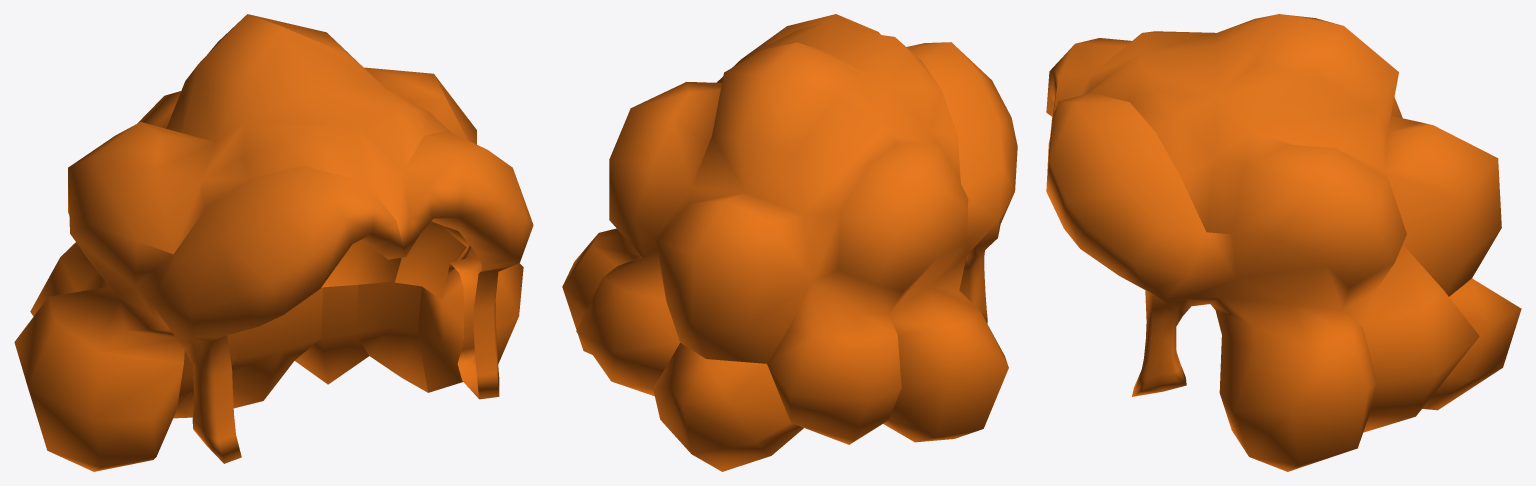
Rendered from Hair_Orange_17.fbx.
The picture shows the model from 3 angles, left to right: view 1: azimuth 30°, elevation 25°; view 2: azimuth 150°, elevation 25°; view 3: azimuth 270°, elevation 25°; orthographic projection. The views are drawn at different scales.
Parts seen in each view (by area): view 1: Hair_Orange_17; view 2: Hair_Orange_17; view 3: Hair_Orange_17.
Part boxes in pixels (x1,y1,x2,y2): Hair_Orange_17: (14,14,533,471); Hair_Orange_17: (562,14,1017,471); Hair_Orange_17: (1046,14,1521,471).
Size of the model in its own units: 85.16 by 70.13 by 76.23.
